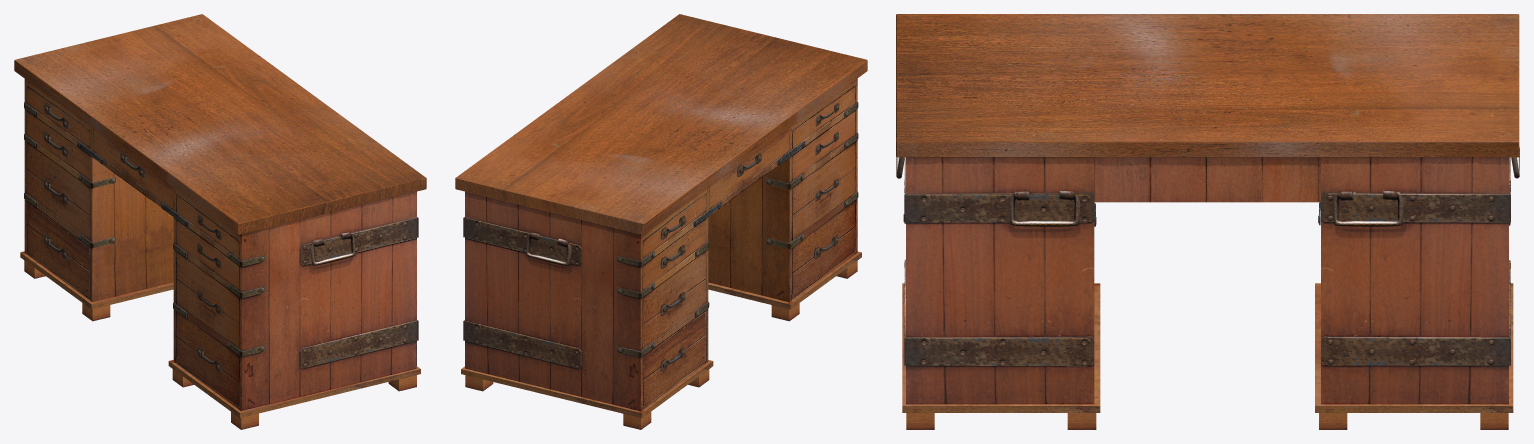
The model's file is desk.glb.
3 renders of one model, left to right at view 1: azimuth 30°, elevation 25°; view 2: azimuth 150°, elevation 25°; view 3: azimuth 270°, elevation 25°, orthographic. The views are drawn at different scales.
Visible parts, largest first — view 1: Desk_body, Desk_Top, handle-good-1.007, Desk_feet, BezierCurve; view 2: Desk_body, Desk_Top, handle-good-1.007, Desk_feet, BezierCurve.003; view 3: Desk_body, Desk_Top, Desk_feet, BezierCurve.002, BezierCurve.001.
Part boxes in pixels (<box>): Desk_body: <box>20,79,420,417</box>; Desk_Top: <box>14,14,426,234</box>; handle-good-1.007: <box>43,102,221,372</box>; Desk_feet: <box>24,260,416,429</box>; BezierCurve: <box>310,232,355,265</box>; Desk_body: <box>461,78,861,417</box>; Desk_Top: <box>455,14,867,234</box>; handle-good-1.007: <box>660,102,839,371</box>; Desk_feet: <box>465,260,857,429</box>; BezierCurve.003: <box>526,233,571,266</box>; Desk_body: <box>902,157,1513,412</box>; Desk_Top: <box>896,14,1519,157</box>; Desk_feet: <box>906,413,1508,429</box>; BezierCurve.002: <box>1333,190,1403,226</box>; BezierCurve.001: <box>1009,190,1079,226</box>.
Bounding box in the file's own units: 0.743 × 0.793 × 1.53.
6 materials, 6 textured.
